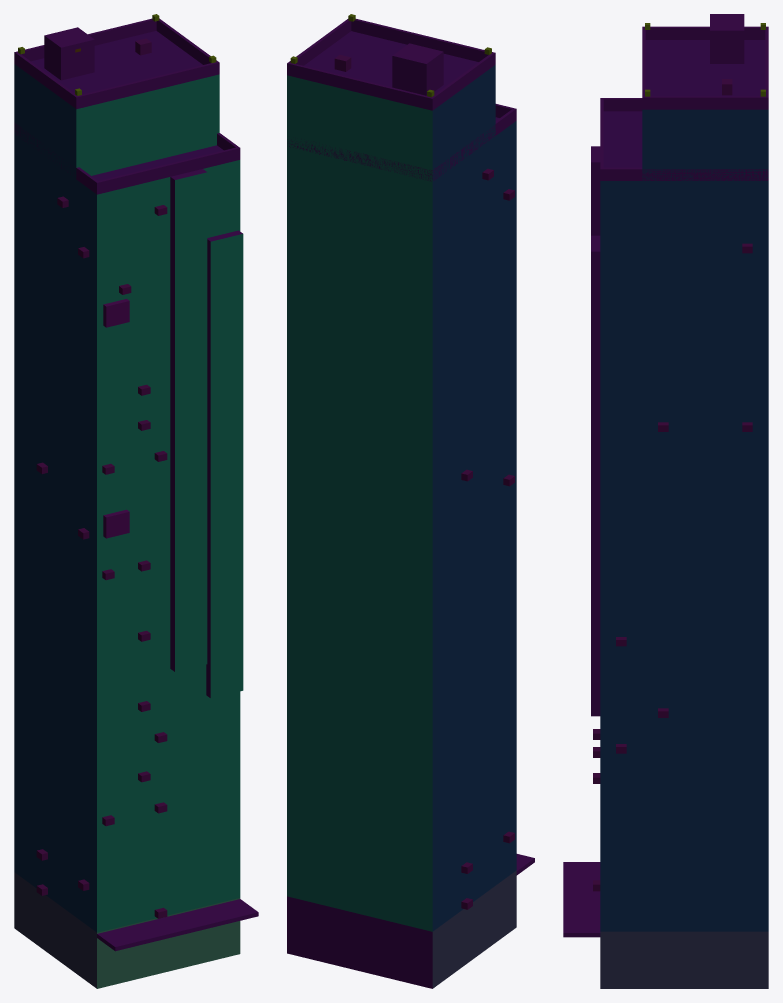
File: slab_l.glb
The picture shows the model from 3 angles, left to right: view 1: azimuth 30°, elevation 25°; view 2: azimuth 150°, elevation 25°; view 3: azimuth 270°, elevation 25°; orthographic projection.
Parts seen in each view (by area): view 1: slab_l; view 2: slab_l; view 3: slab_l.
Boxes of the visible parts, x1,y1,x2,y2 form: slab_l: (14, 14, 258, 988); slab_l: (287, 14, 534, 988); slab_l: (563, 14, 768, 988).
Bounding box in the file's own units: 13.9 × 76.6 × 15.6.
